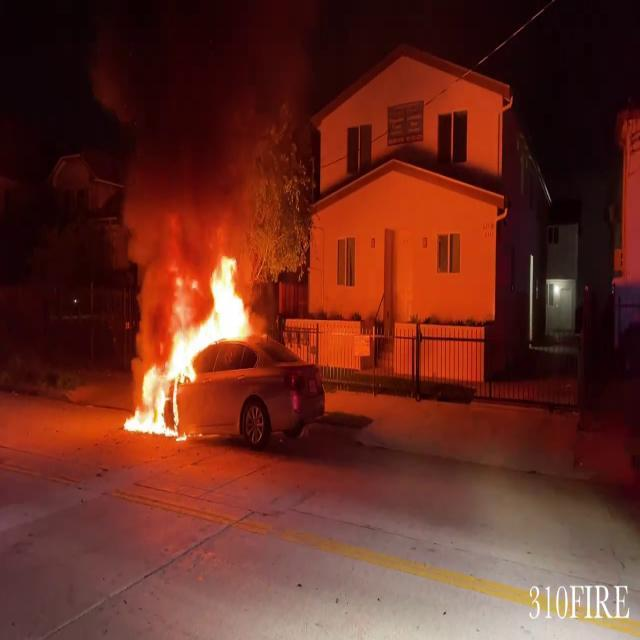Fire: (119, 241, 267, 438)
Smoke: (73, 0, 308, 257)
